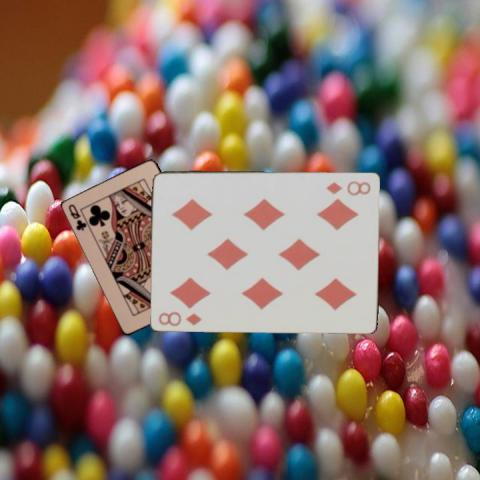8d: (323, 178, 372, 197), (156, 309, 204, 327)
Qc: (66, 201, 88, 232)
